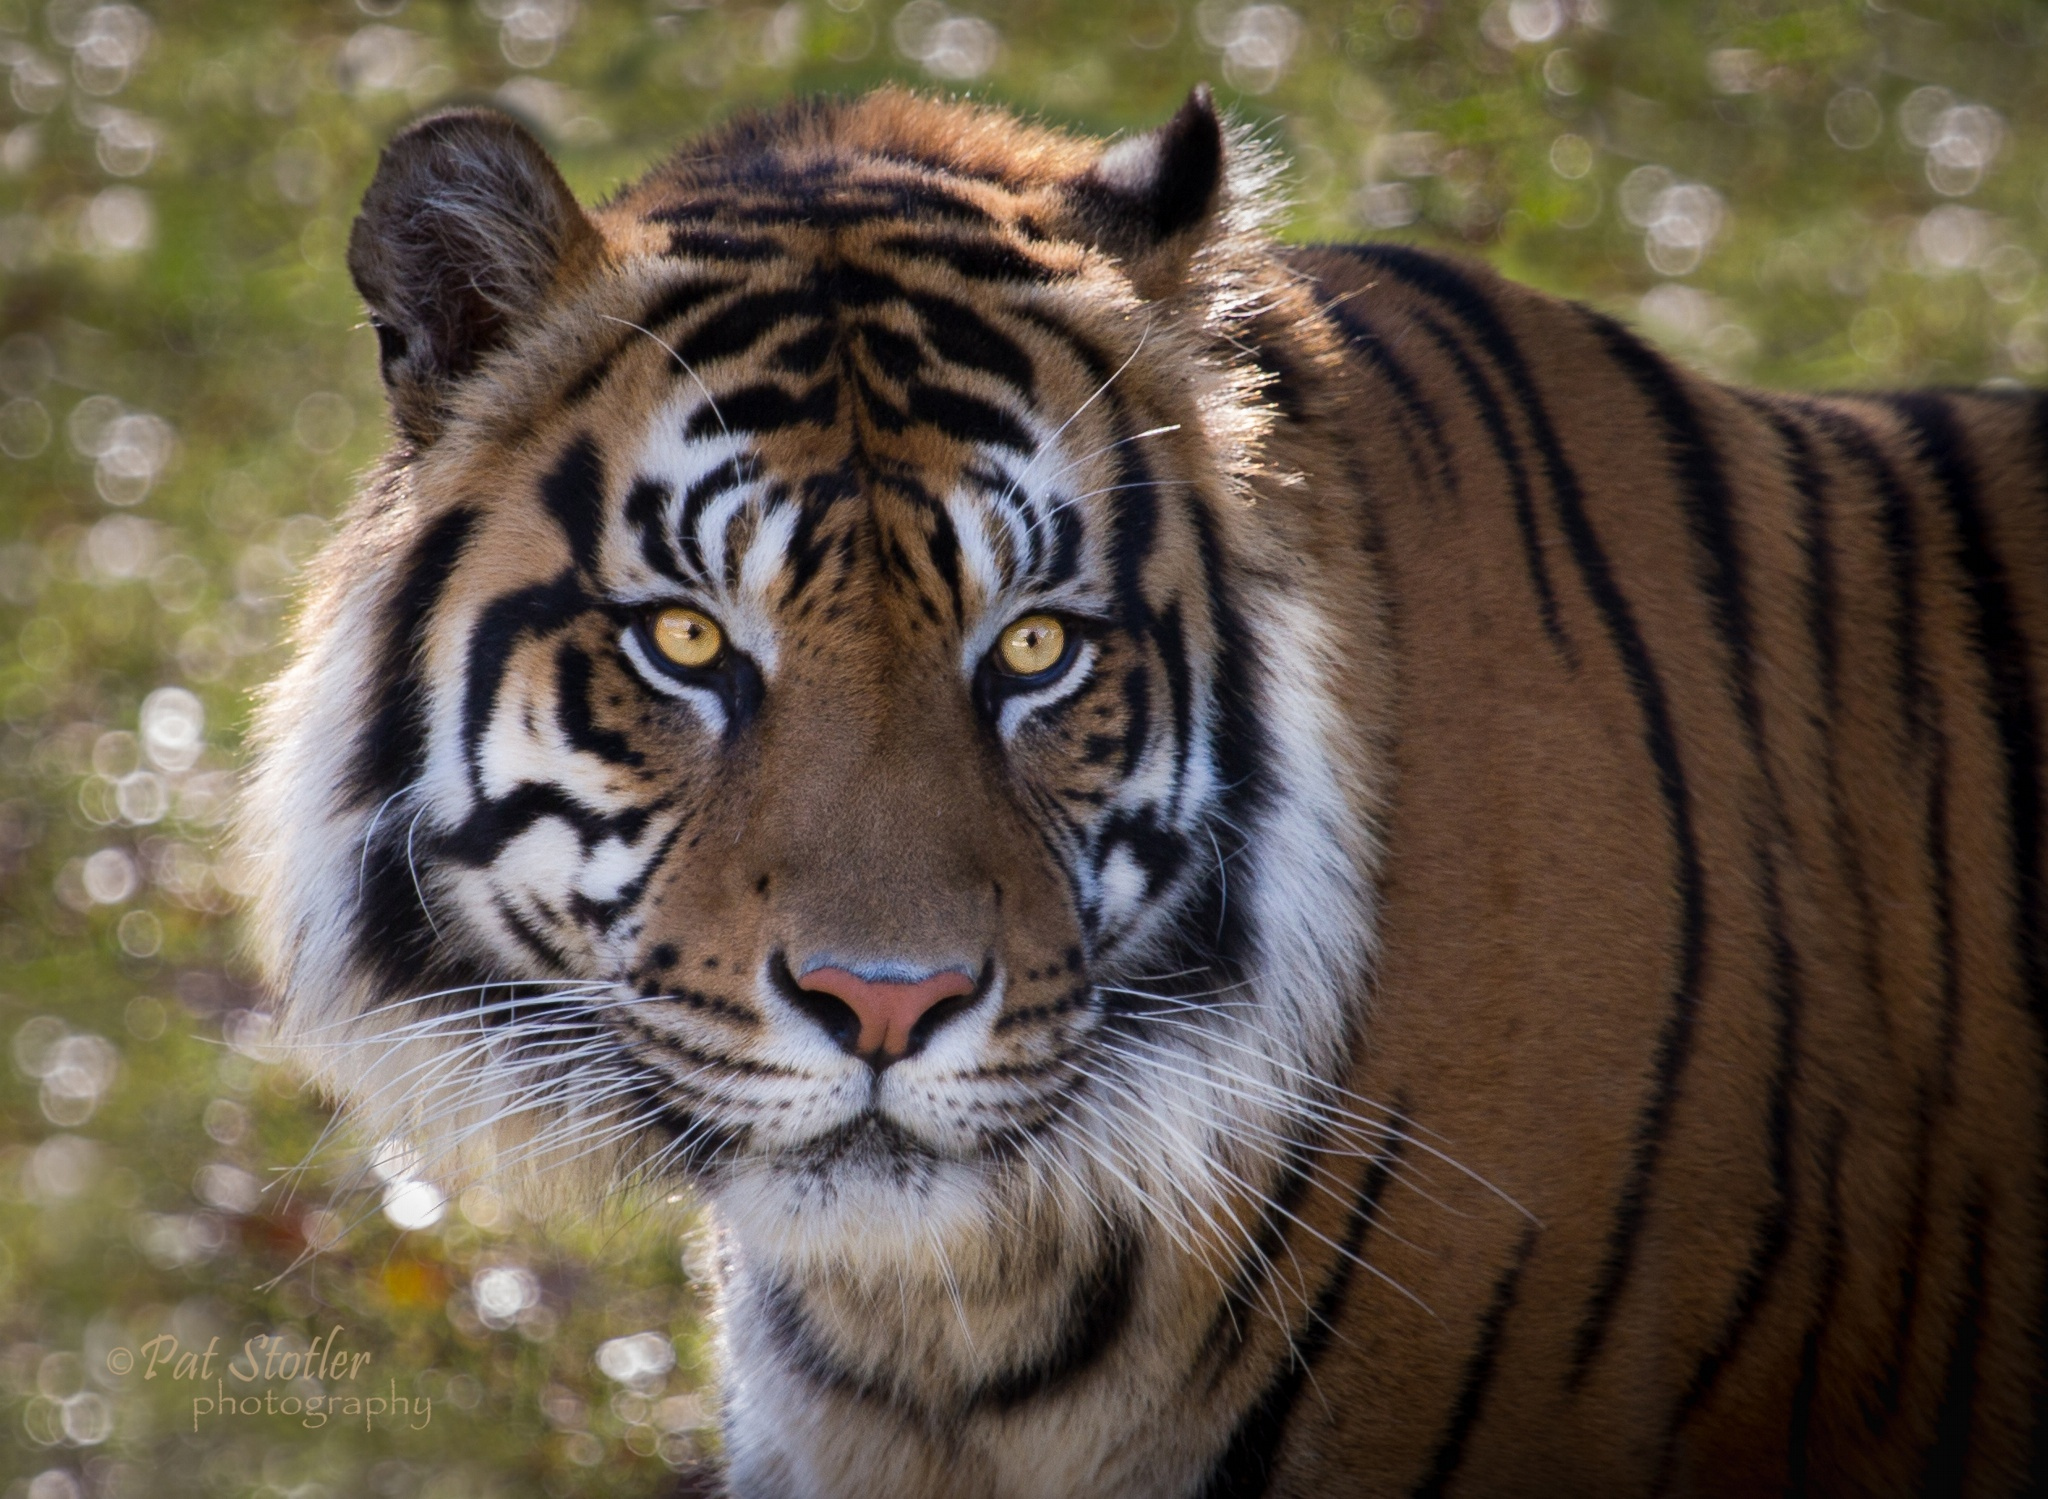tiger: (323, 89, 1992, 1431)
